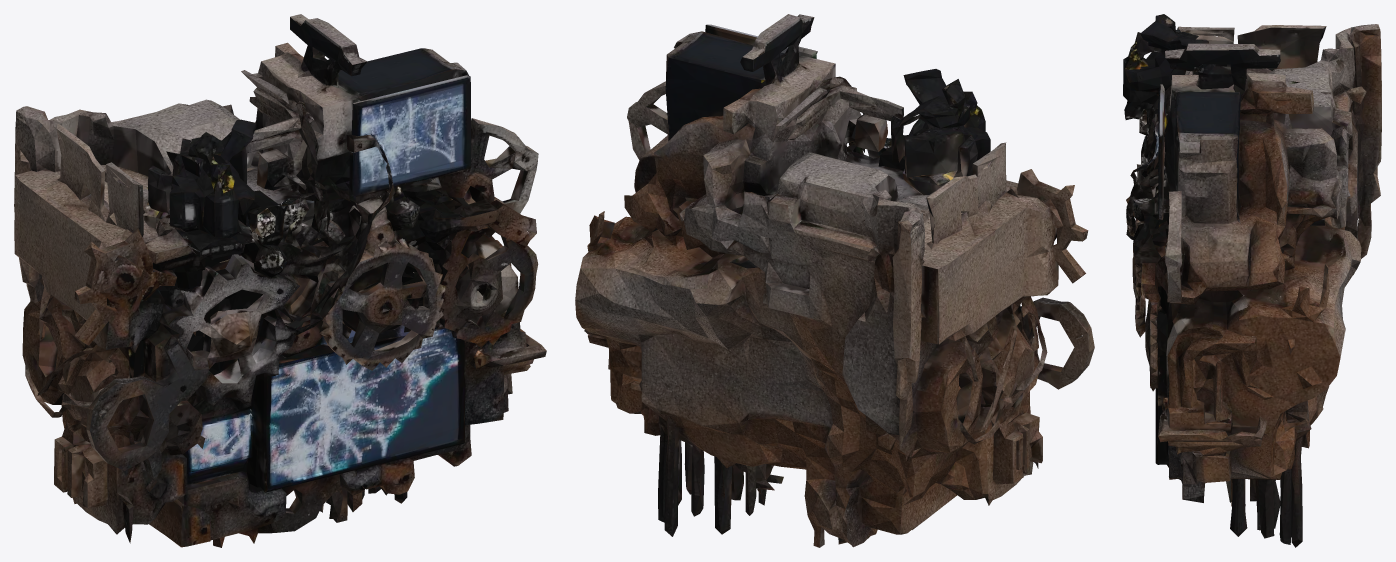
Rendered from belly (3).glb.
3 views of the same model, side by side, from view 1: azimuth 30°, elevation 25°; view 2: azimuth 150°, elevation 25°; view 3: azimuth 270°, elevation 25° (orthographic). The views are drawn at different scales.
Parts seen in each view (by area): view 1: Hy21_Mesh.obj; view 2: Hy21_Mesh.obj; view 3: Hy21_Mesh.obj.
Boxes of the visible parts, bbox=[...] form: Hy21_Mesh.obj: bbox=[14, 14, 546, 547]; Hy21_Mesh.obj: bbox=[575, 14, 1094, 547]; Hy21_Mesh.obj: bbox=[1123, 14, 1381, 547].
Bounding box in the file's own units: 1.87 × 1.96 × 0.9761.
1 material, 1 textured.
